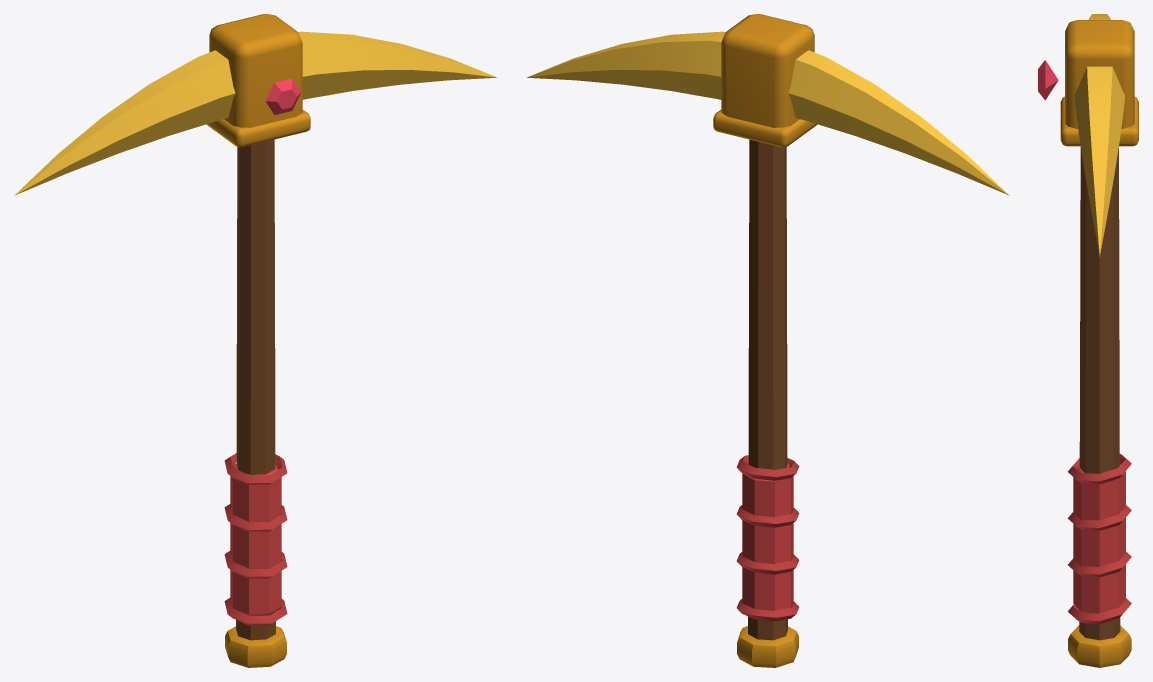
Rendered from GoldPickaxe.fbx.
3 views of the same model, side by side, from view 1: azimuth 30°, elevation 25°; view 2: azimuth 150°, elevation 25°; view 3: azimuth 270°, elevation 25° (orthographic).
Visible parts, largest first — view 1: GoldPickaxe; view 2: GoldPickaxe; view 3: GoldPickaxe.
Part boxes in pixels (x1=…): GoldPickaxe: x1=14, y1=14, x2=496, y2=667; GoldPickaxe: x1=527, y1=14, x2=1009, y2=667; GoldPickaxe: x1=1038, y1=14, x2=1138, y2=667.
Bounding box in the file's own units: 2.7 × 3.36 × 0.49.
1 material, 1 textured.
